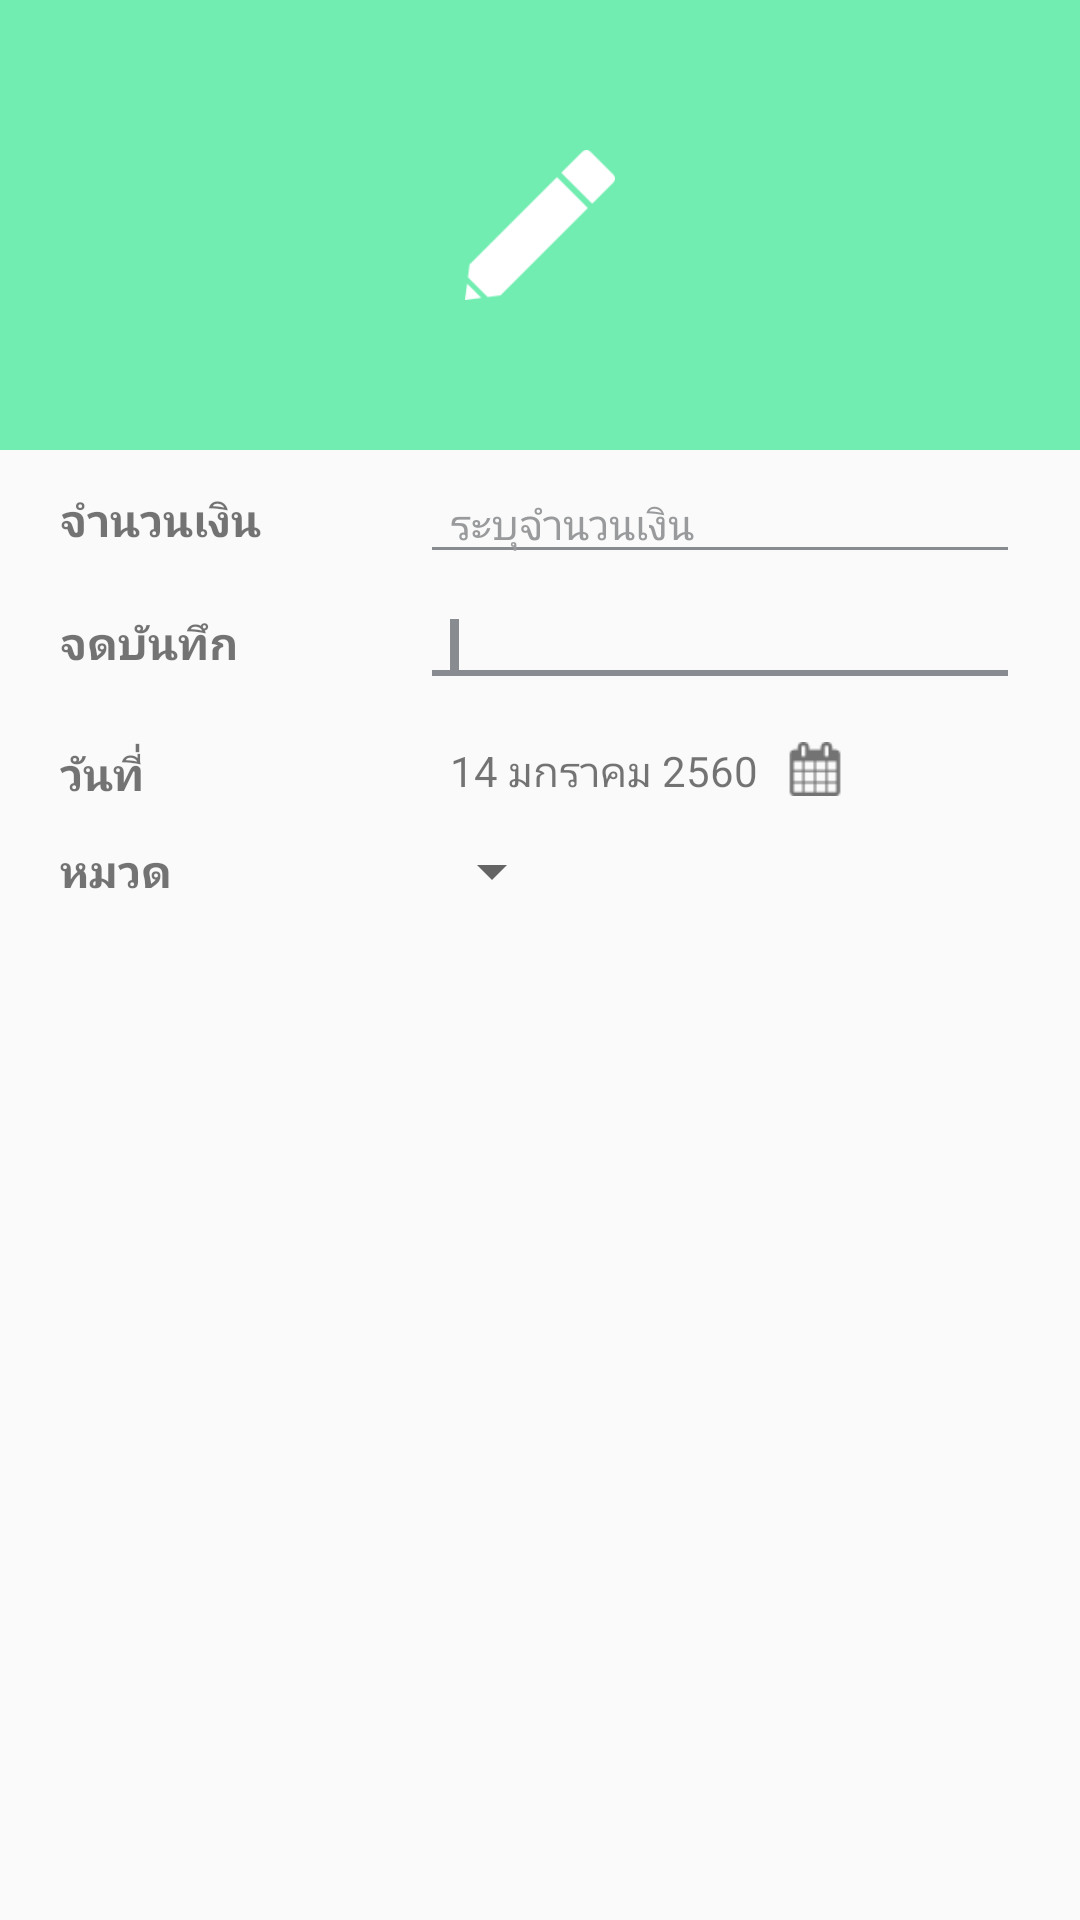

Icons on this 1080px x 1920px Android screen, each with its box as (x1, y1, x2, y2):
calendar: (789, 742, 841, 796)
edit layout: (465, 150, 615, 300)
